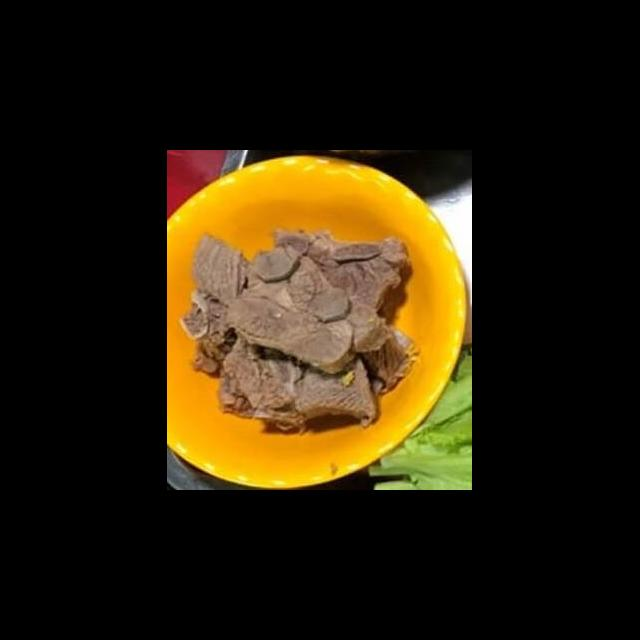thit heo: (227, 240, 396, 381), (215, 323, 382, 441), (266, 221, 410, 319)
